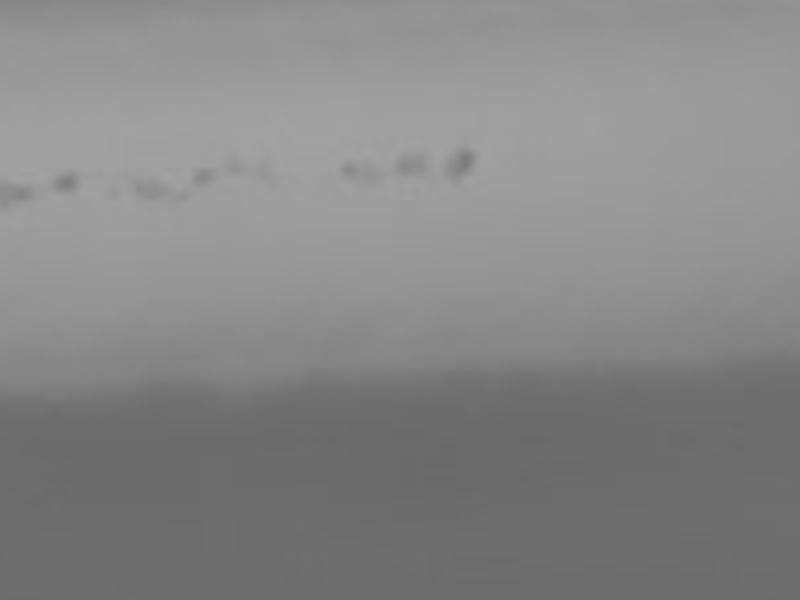defect: (445, 150, 477, 183), (394, 150, 427, 180), (132, 173, 170, 199), (251, 159, 282, 189), (2, 179, 33, 206), (49, 168, 77, 196), (193, 166, 220, 187), (220, 150, 240, 174), (339, 158, 360, 175), (171, 187, 193, 203), (102, 185, 118, 200)
